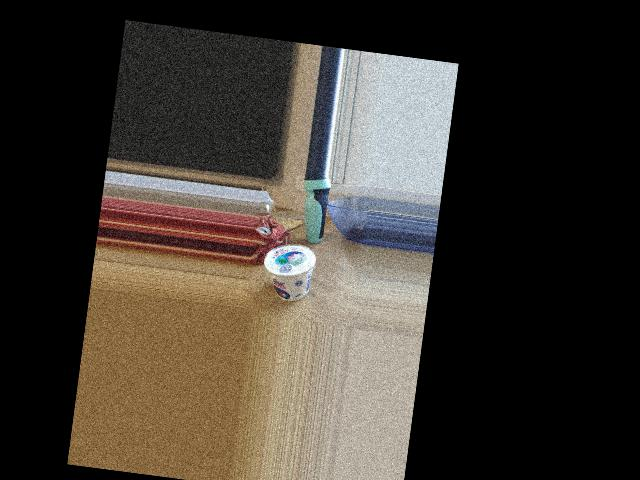cotage: (267, 237, 321, 306)
